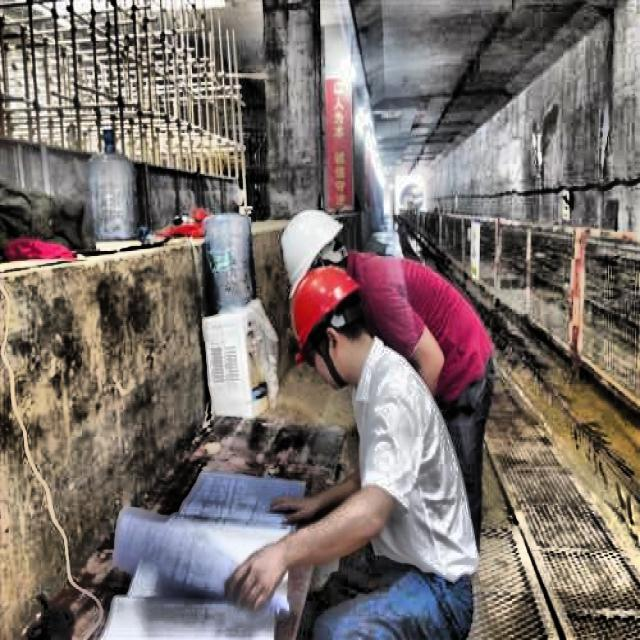helmet: (278, 258, 366, 380), (278, 203, 362, 307)
